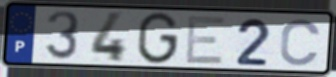2: (232, 14, 275, 68)
3: (44, 10, 81, 62)
4: (89, 11, 131, 64)
C: (278, 17, 324, 68)
E: (183, 15, 228, 67)
G: (135, 11, 181, 67)
